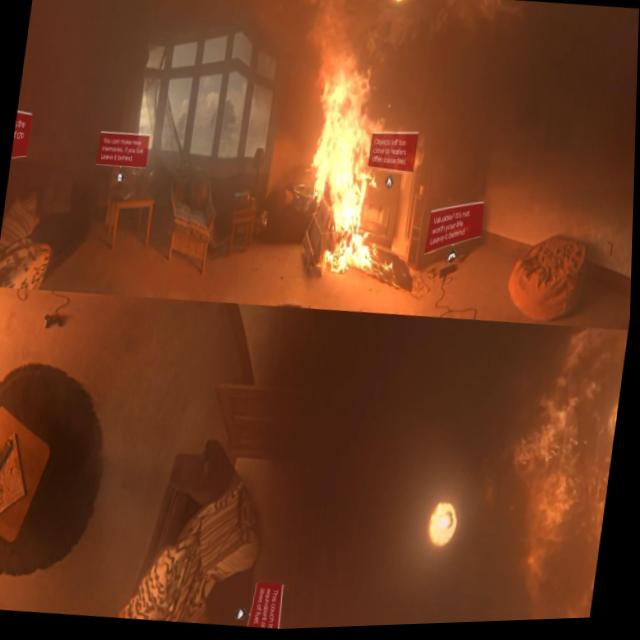fire: (293, 44, 428, 289)
